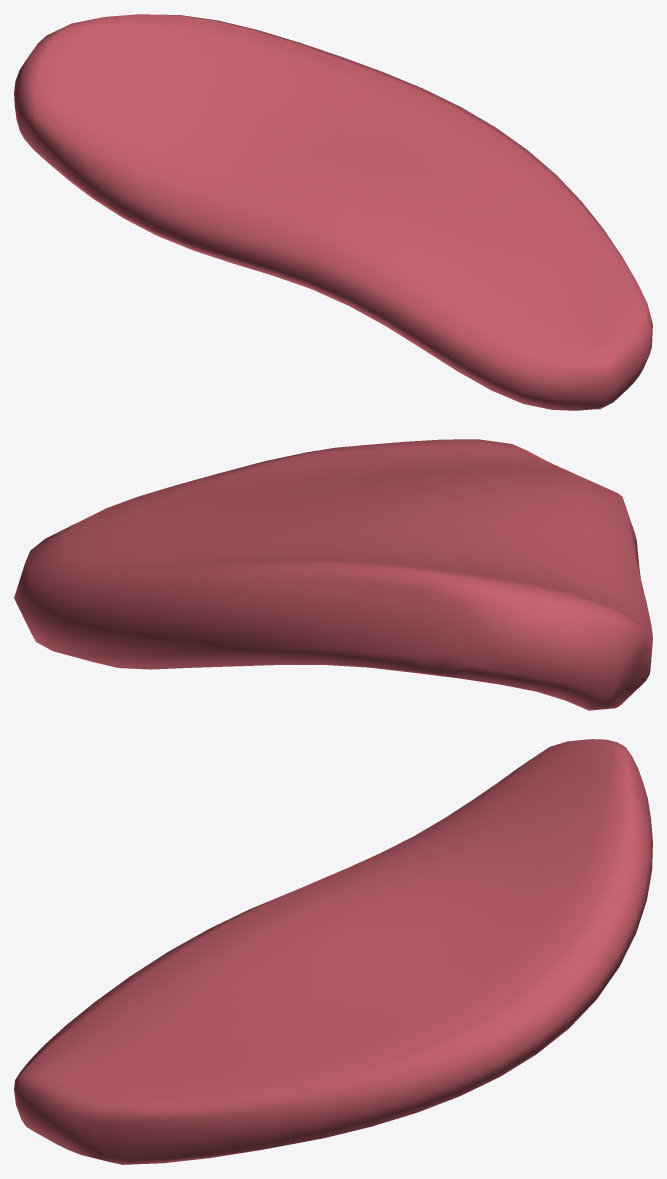
3 renders of one model, top to bottom at view 1: azimuth 30°, elevation 25°; view 2: azimuth 150°, elevation 25°; view 3: azimuth 270°, elevation 25°, orthographic. The views are drawn at different scales.
Parts seen in each view (by area): view 1: 左侧腓肠肌内侧头腱下囊; view 2: 左侧腓肠肌内侧头腱下囊; view 3: 左侧腓肠肌内侧头腱下囊.
Part boxes in pixels (box(x1,y1,x2,y2)): 左侧腓肠肌内侧头腱下囊: box(14, 14, 652, 410); 左侧腓肠肌内侧头腱下囊: box(14, 439, 652, 710); 左侧腓肠肌内侧头腱下囊: box(14, 739, 652, 1164).
Size of the model in its own units: 0.0232 by 0.0119 by 0.0275.
